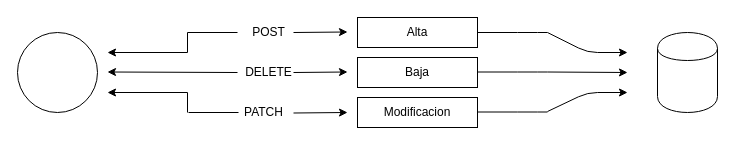
This 735x145 diagram has some shape labels left out. The shapes that lost their labels are listed below. From the top down, each one's centre as x and y in pixels, then its label:
the point at 57,72: API
the point at 687,72: Base de datos
